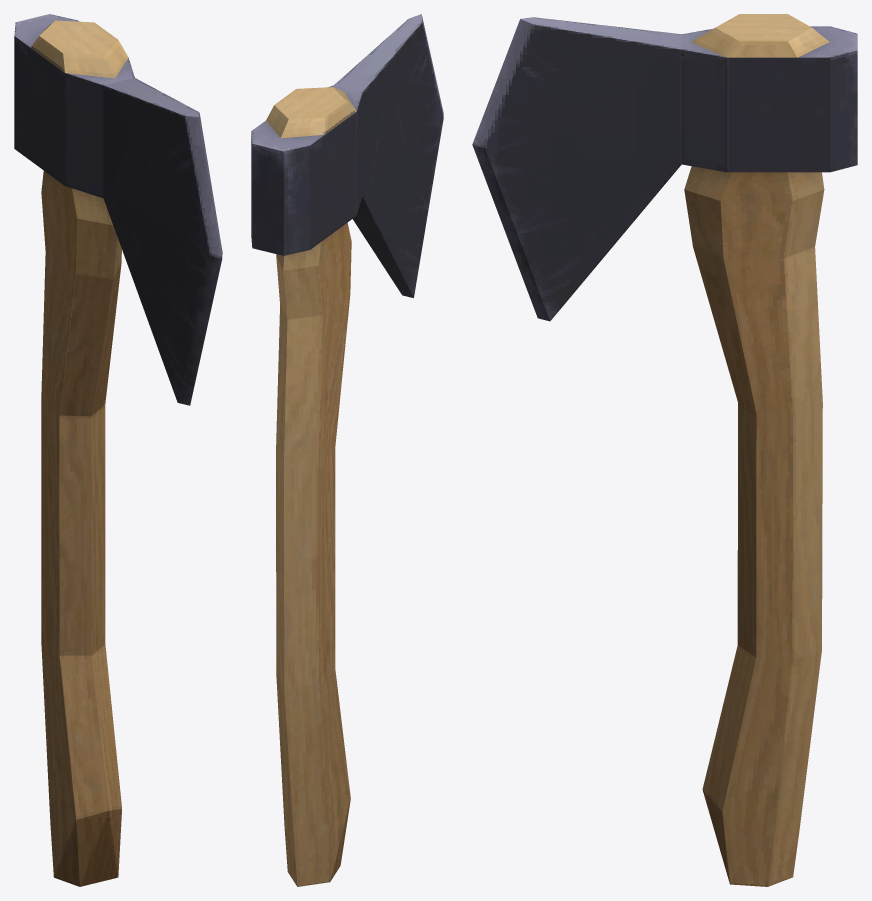
The model's file is item_hatchet.glb.
3 views of the same model, side by side, from view 1: azimuth 30°, elevation 25°; view 2: azimuth 150°, elevation 25°; view 3: azimuth 270°, elevation 25° (orthographic). The views are drawn at different scales.
Visible parts, largest first — view 1: fireaxe; view 2: fireaxe; view 3: fireaxe.
Boxes of the visible parts, x1,y1,x2,y2 form: fireaxe: (14, 14, 222, 886); fireaxe: (251, 14, 443, 886); fireaxe: (472, 14, 857, 886).
Bounding box in the file's own units: 0.036 × 0.4573 × 0.1861.
1 material, 1 textured.
